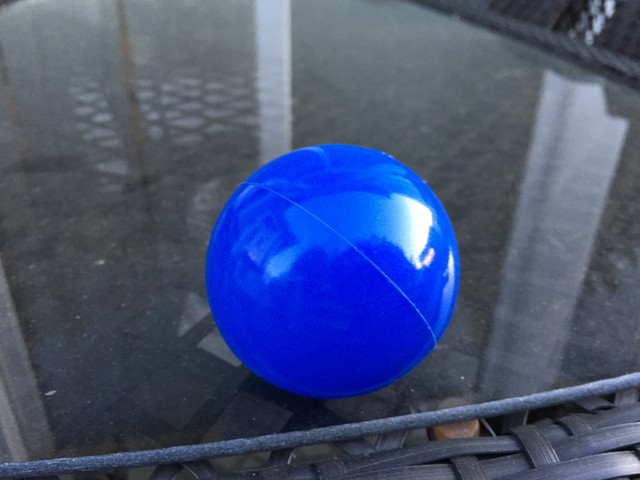ball: (203, 144, 460, 399)
